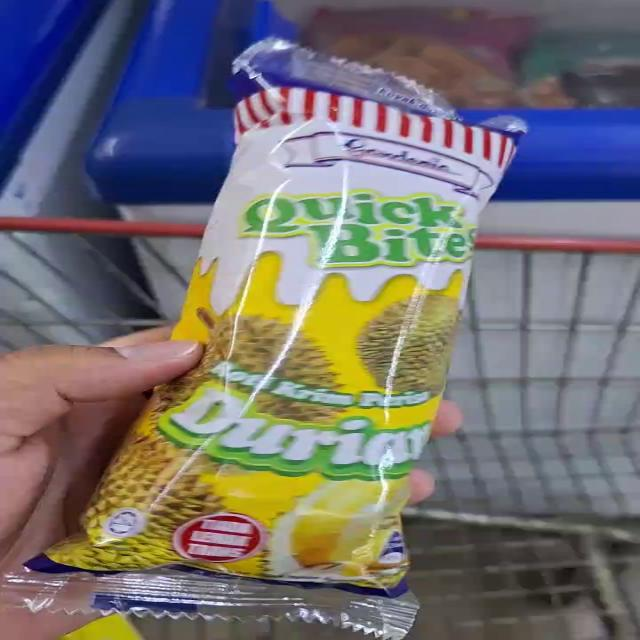Roti: (52, 280, 450, 640), (209, 48, 539, 357)
